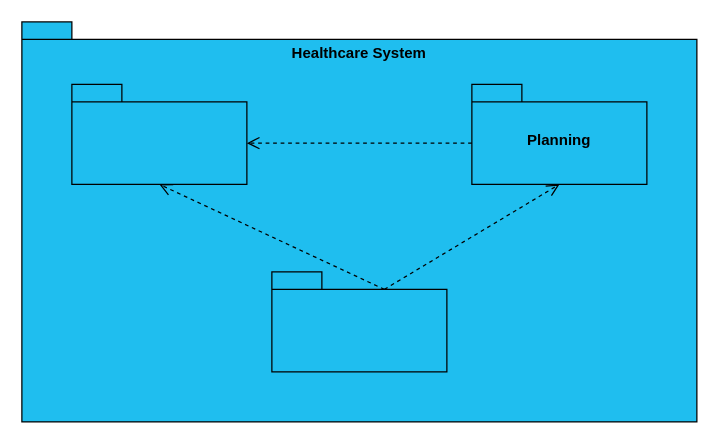
Some shapes in this 719 by 444 pixel diagram are drawn without their labels. The shapes that lost their labels are listed below. From the top down, each one's centre as x and y in pixels, then its label:
At [159,133]: "Backoffice".
At [359,321]: "Visualization".
